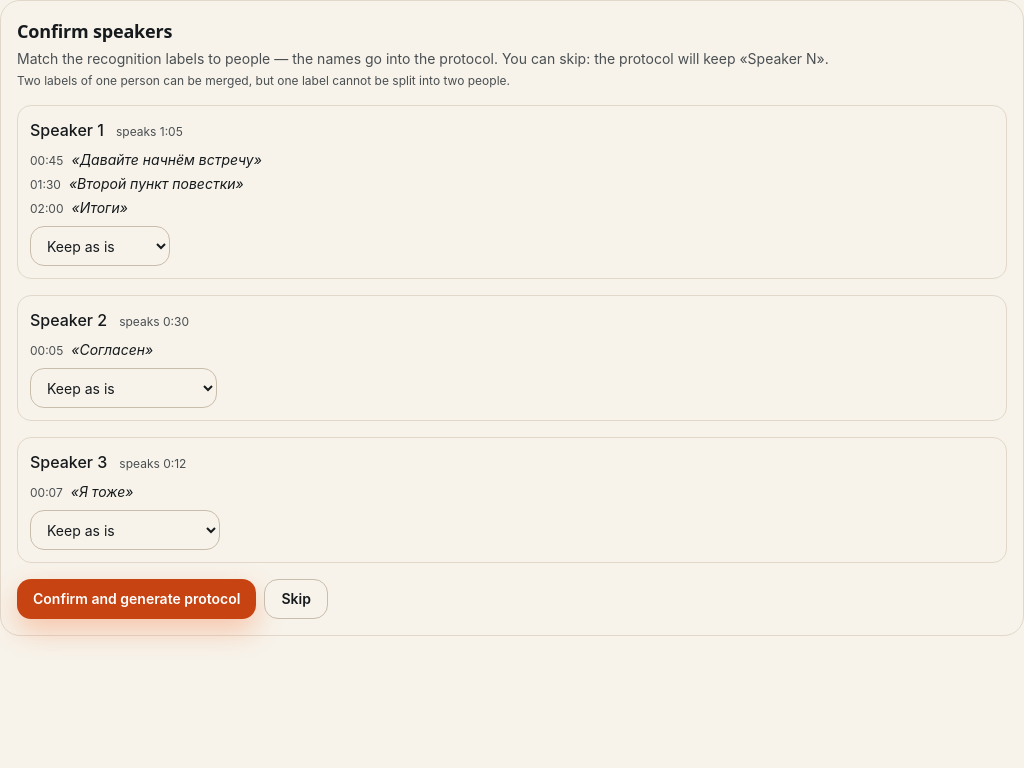
speakers confirmation (AWAITING_SPEAKERS) › on 409 shows a message and re-requests the meeting status
This screenshot has width=1024, height=768.
Click the button with test id "speakers-skip" at (296,599), box left=264, top=579, right=328, bottom=619
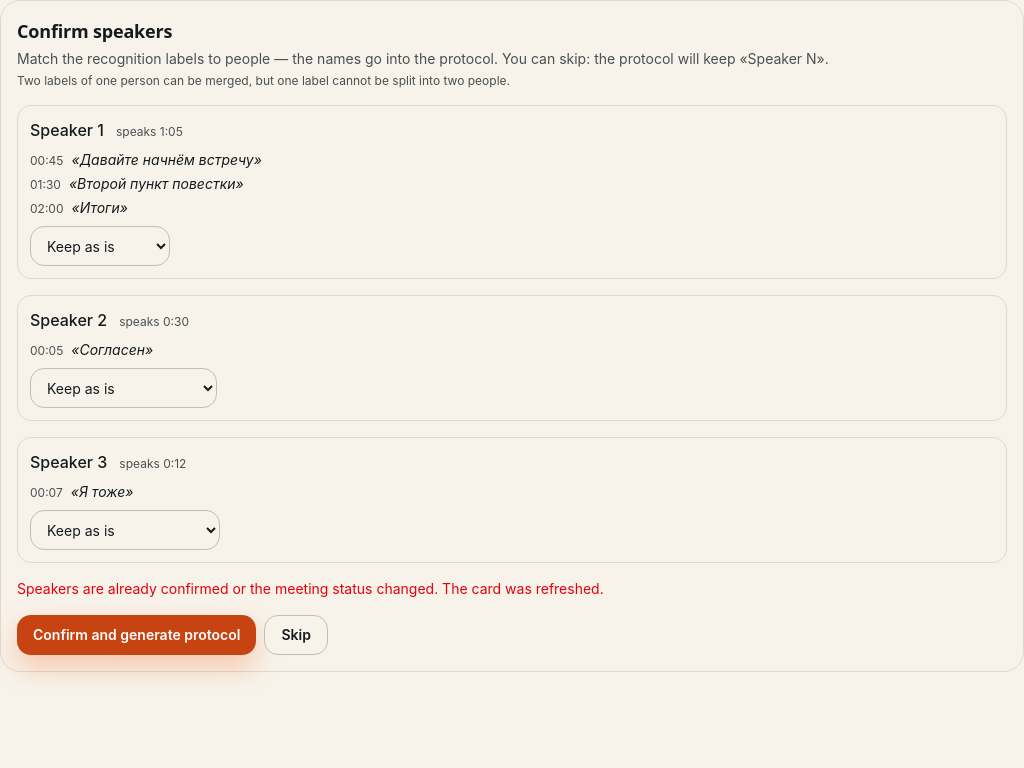
Now the message with test id "speakers-error" shows "already confirmed", box left=17, top=580, right=604, bottom=597
